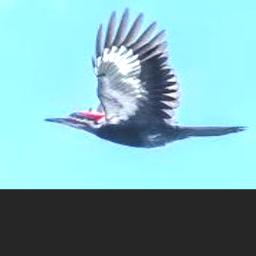Woodpecker: (43, 7, 249, 148)
